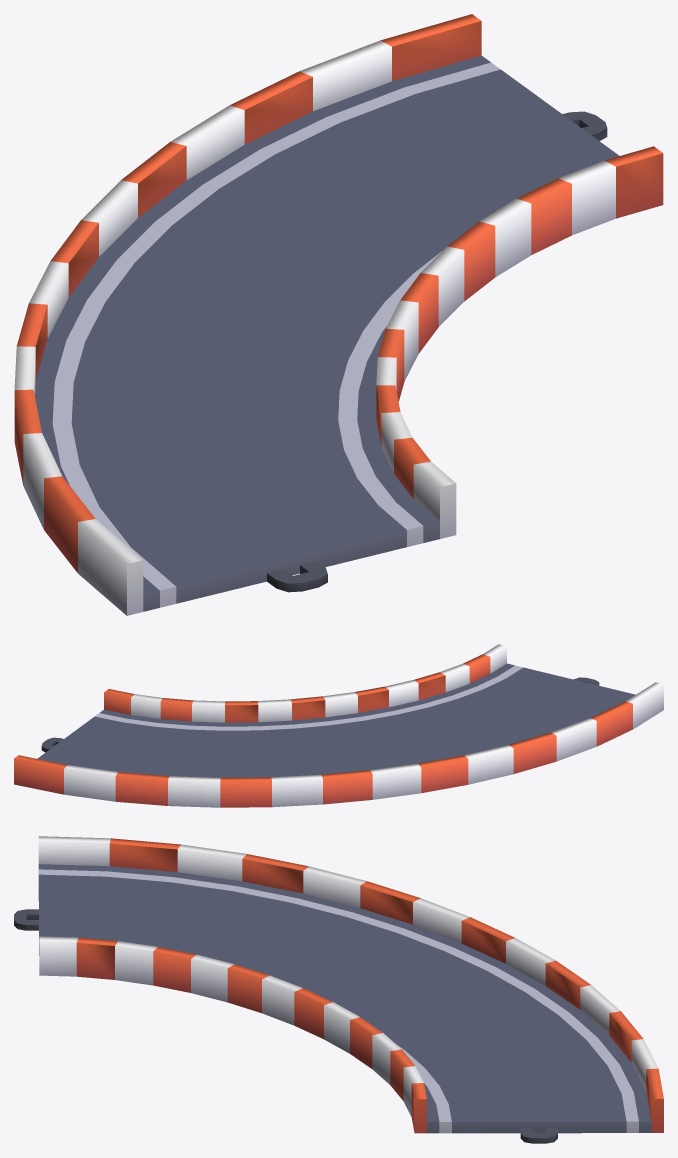
File: track-road-wide-corner-large.026_lev1.glb
3 views of the same model, one above another, from view 1: azimuth 30°, elevation 25°; view 2: azimuth 150°, elevation 25°; view 3: azimuth 270°, elevation 25° (orthographic). The views are drawn at different scales.
Visible parts, largest first — view 1: track-road-wide-corner-large.026_lev1; view 2: track-road-wide-corner-large.026_lev1; view 3: track-road-wide-corner-large.026_lev1.
Part boxes in pixels (<box>): track-road-wide-corner-large.026_lev1: <box>14,14,663,615</box>; track-road-wide-corner-large.026_lev1: <box>14,644,663,807</box>; track-road-wide-corner-large.026_lev1: <box>14,836,663,1143</box>.
Size of the model in its own units: 5.19 by 0.3 by 5.21.
1 material, 1 textured.
